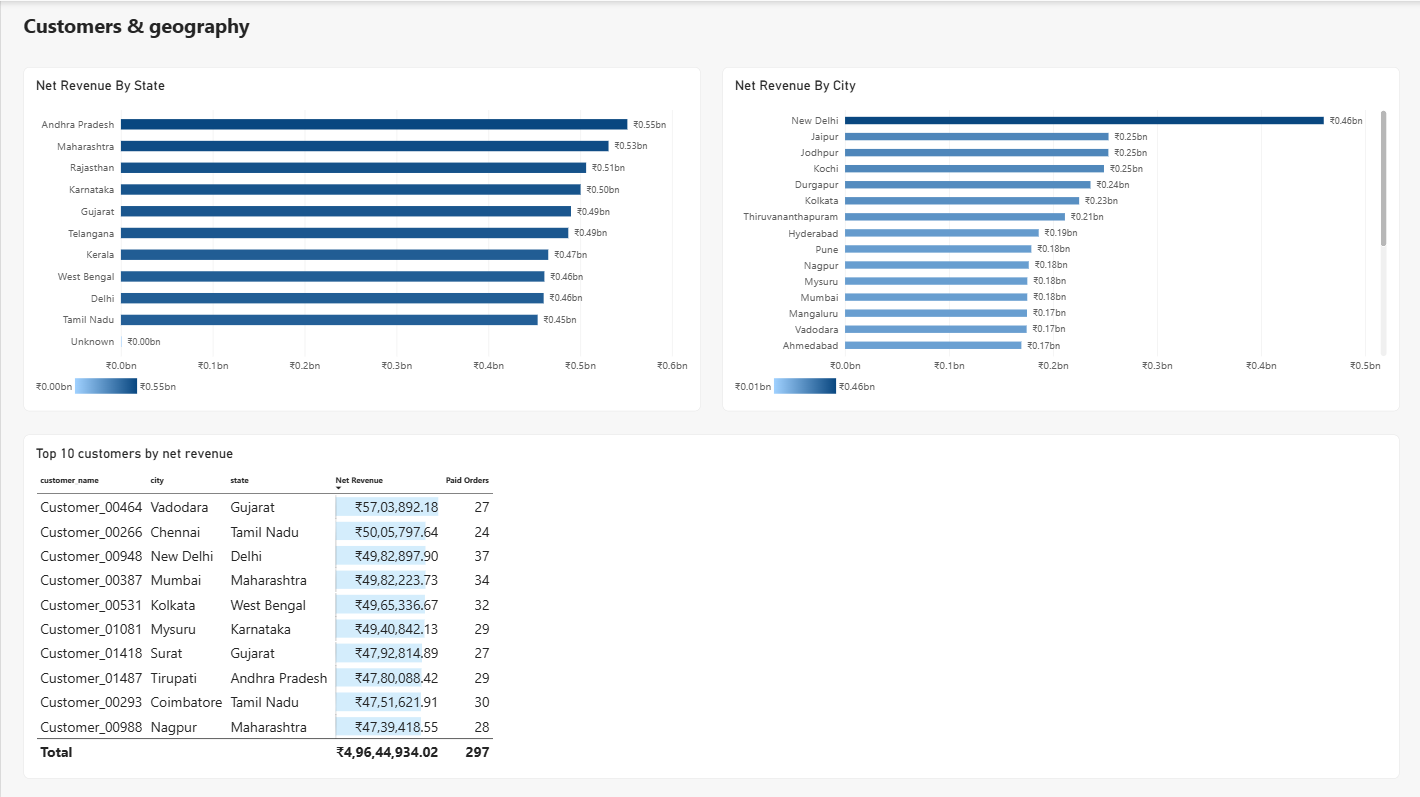

Layout of this report page (visuals, bound fields, positions):
{"tool":"powerbi","page":{"name":"Customers and geography","canvas":[1920,1080],"ordinal":1},"visuals":[{"type":"textbox","box":[30,15,900,60],"z":0},{"type":"clusteredBarChart","title":"Net Revenue By State","fields":{"Category":["dim_customers.state"],"Y":["fact_orders.Net Revenue"]},"box":[30,90,915,465],"z":1},{"type":"clusteredBarChart","title":"Net Revenue By City","fields":{"Category":["dim_customers.city"],"Y":["fact_orders.Net Revenue"]},"box":[975,90,915,465],"z":2},{"type":"tableEx","title":"Top 10 customers by net revenue","fields":{"Values":["dim_customers.customer_name","dim_customers.city","dim_customers.state","fact_orders.Net Revenue","fact_orders.Paid Orders"]},"box":[30,585,1860,465],"z":3}]}

Visuals, with their boxes in screenshot pixels (x1, y1, x2, y2), scaled from the page's 1920x1080 canvas onto the 1420x797 screenshot:
textbox: (left=22, top=11, right=688, bottom=55)
"Net Revenue By State" clusteredBarChart: (left=22, top=66, right=699, bottom=410)
"Net Revenue By City" clusteredBarChart: (left=721, top=66, right=1398, bottom=410)
"Top 10 customers by net revenue" tableEx: (left=22, top=432, right=1398, bottom=775)
